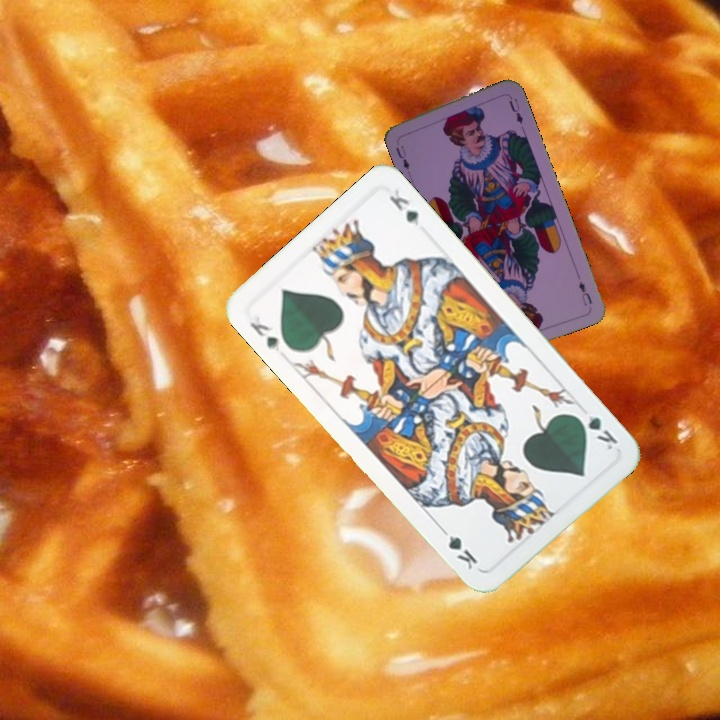EU: (392, 141, 412, 173), (575, 278, 595, 309)
GK: (570, 410, 621, 453), (245, 311, 283, 354)
